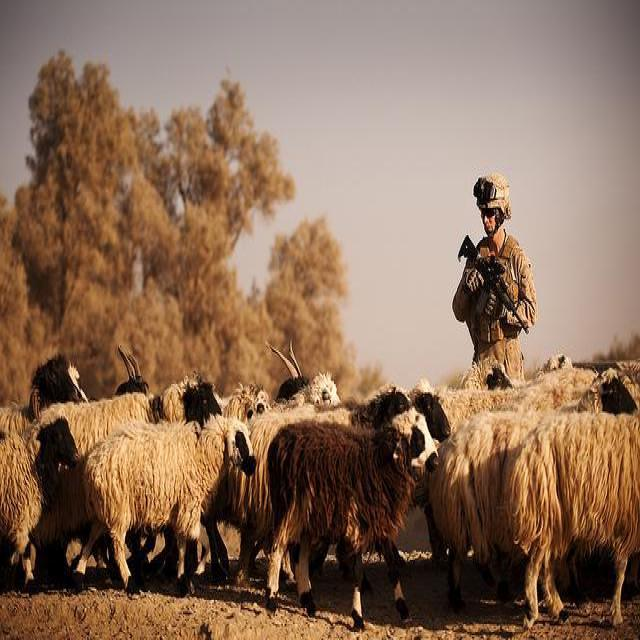Sheep: (106, 329, 634, 602), (439, 365, 639, 582), (200, 388, 416, 586), (264, 414, 443, 624), (72, 418, 257, 598), (38, 376, 215, 557), (503, 410, 639, 628), (423, 366, 579, 452), (2, 416, 81, 584), (0, 352, 93, 438), (410, 379, 451, 445)
